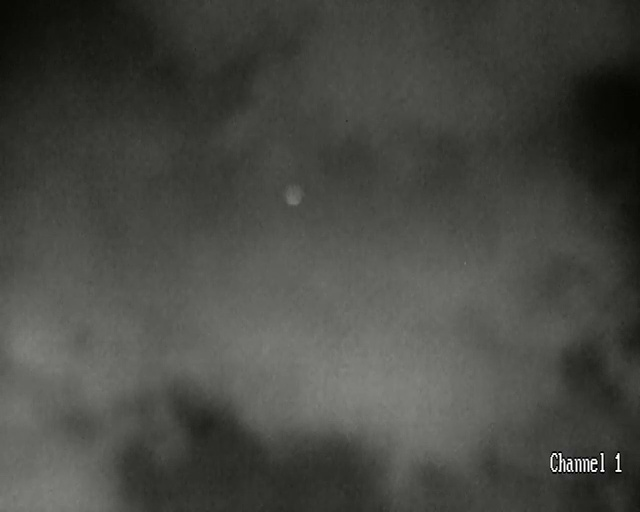uav: (285, 184, 302, 204)
